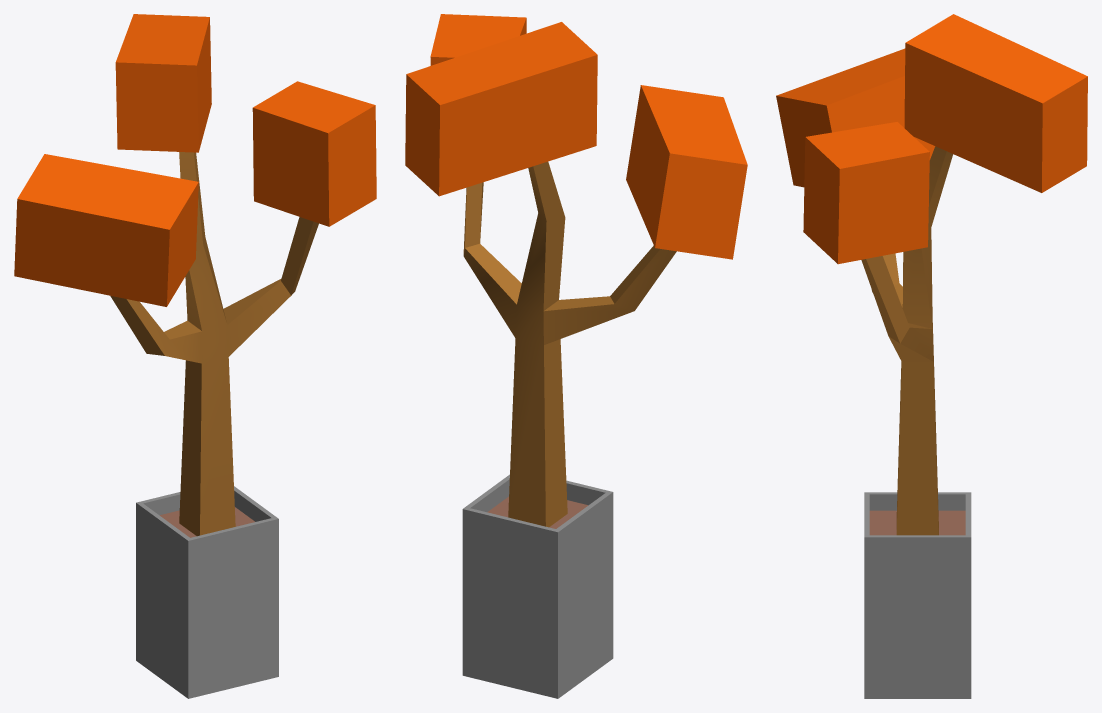
The model's file is deco_06.fbx.
The picture shows the model from 3 angles, left to right: view 1: azimuth 30°, elevation 25°; view 2: azimuth 150°, elevation 25°; view 3: azimuth 270°, elevation 25°; orthographic projection. The views are drawn at different scales.
Visible parts, largest first — view 1: deco_06; view 2: deco_06; view 3: deco_06.
Part boxes in pixels (bbox=[...]): deco_06: bbox=[14, 14, 376, 698]; deco_06: bbox=[405, 14, 747, 698]; deco_06: bbox=[776, 14, 1087, 698].
Size of the model in its own units: 2.15 by 3.87 by 1.75.
